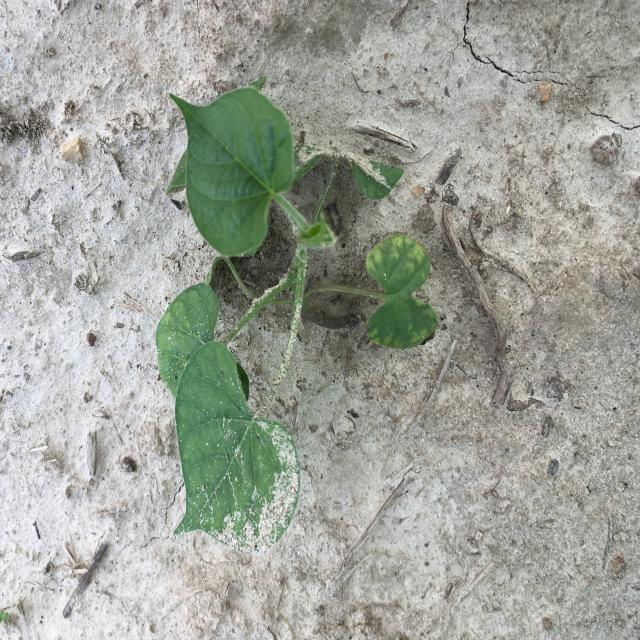MorningGlory: (156, 86, 437, 554)
